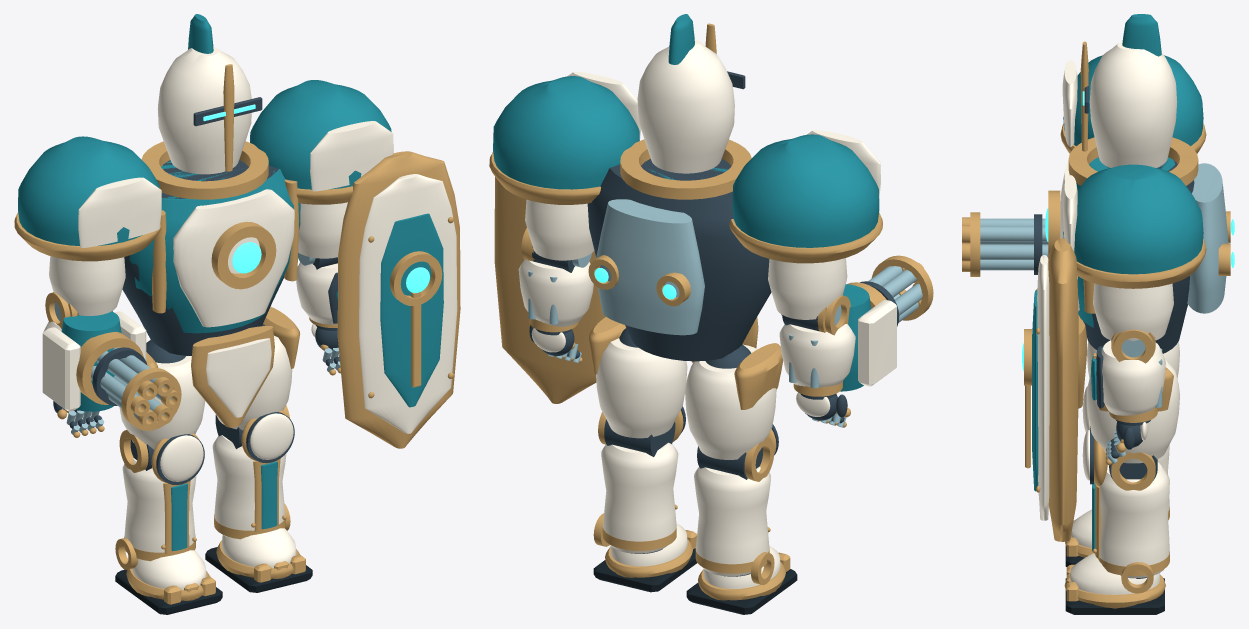
File: AegisVanguard.glb
The picture shows the model from 3 angles, left to right: view 1: azimuth 30°, elevation 25°; view 2: azimuth 150°, elevation 25°; view 3: azimuth 270°, elevation 25°; orthographic projection. The views are drawn at different scales.
Parts seen in each view (by area): view 1: Torso, Shield, UpperArmR, UpperArmL, Head, ShinR, ShinL, Weapon, CannonRotor, FootR, FootL, ThighR (+5 smaller); view 2: Torso, UpperArmR, UpperArmL, Head, ShinL, ShinR, ThighR, Shield, ThighL, ForearmR, ForearmL, Weapon (+5 smaller); view 3: UpperArmL, Shield, Head, Torso, ShinL, ForearmL, FootL, CannonRotor, UpperArmR, ThighL, FootR, HandL (+2 smaller).
Boxes of the visible parts, box(x1,y1,x2,y2) form: Torso: box(122, 141, 300, 427); Shield: box(337, 151, 460, 448); UpperArmR: box(14, 136, 161, 315); UpperArmL: box(250, 80, 393, 258); Head: box(157, 14, 262, 174); ShinR: box(119, 430, 204, 561); ShinL: box(212, 405, 294, 539); Weapon: box(42, 311, 146, 411); CannonRotor: box(91, 347, 181, 430); FootR: box(115, 537, 222, 614); FootL: box(205, 503, 312, 592); ThighR: box(119, 340, 205, 449); Torso: box(587, 139, 771, 362); UpperArmR: box(729, 130, 882, 319); UpperArmL: box(489, 71, 640, 260); Head: box(637, 14, 745, 173); ShinL: box(598, 406, 685, 553); ShinR: box(694, 424, 778, 576); ThighR: box(685, 343, 782, 459); Shield: box(494, 177, 605, 403); ThighL: box(588, 317, 687, 438); ForearmR: box(779, 295, 855, 399); ForearmL: box(518, 228, 593, 335); Weapon: box(840, 282, 896, 391); UpperArmL: box(1062, 164, 1206, 341); Shield: box(1022, 238, 1078, 541); Head: box(1080, 14, 1177, 167); Torso: box(1045, 137, 1234, 408); ShinL: box(1082, 429, 1169, 578); ForearmL: box(1091, 329, 1165, 425); FootL: box(1064, 553, 1165, 614); CannonRotor: box(962, 212, 1048, 276); UpperArmR: box(1060, 55, 1206, 153); ThighL: box(1087, 359, 1179, 463); FootR: box(1065, 509, 1092, 566); HandL: box(1105, 422, 1148, 465).
Size of the model in its own units: 2.32 by 3.06 by 1.35.
